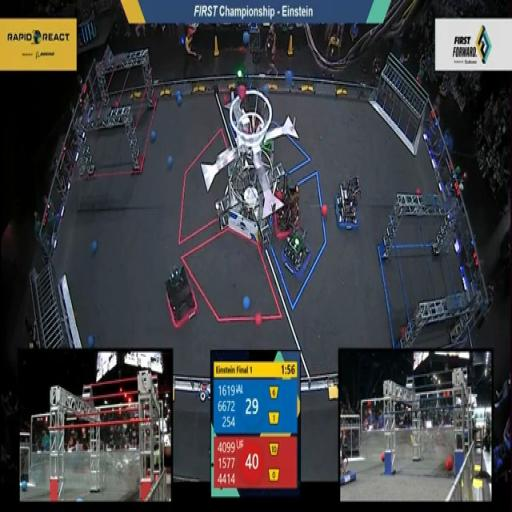robot: (160, 260, 202, 334), (330, 169, 364, 243), (268, 178, 302, 237), (278, 226, 314, 280)
